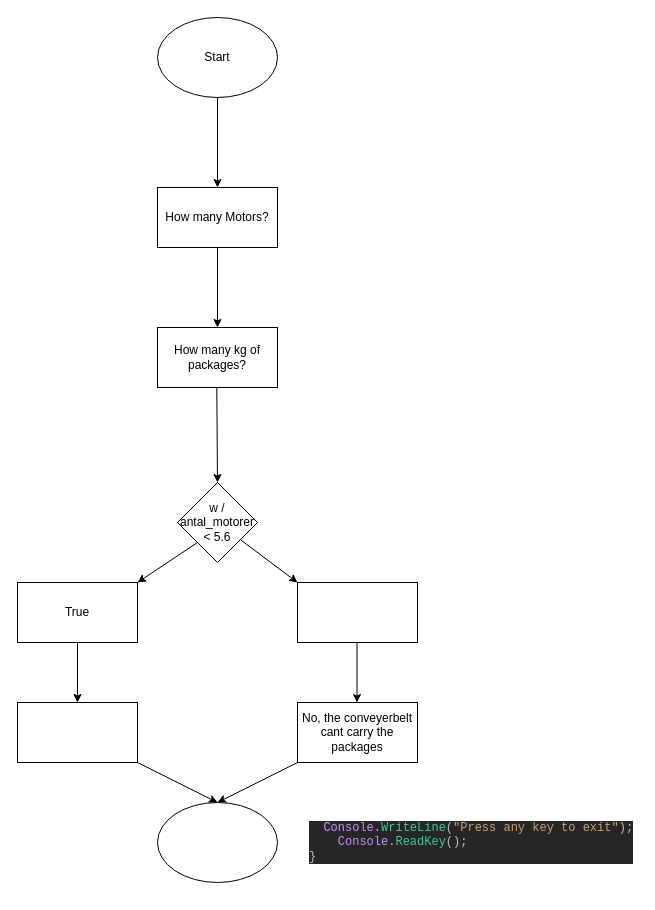
The diagram is 655 pixels wide and 910 high, and some of its shapes have lost their labels. Each missing label, with the centre of its shape:
End program: (x=217, y=842)
False: (x=357, y=612)
Yes, conveyerbelt can carry the packages: (x=77, y=732)
